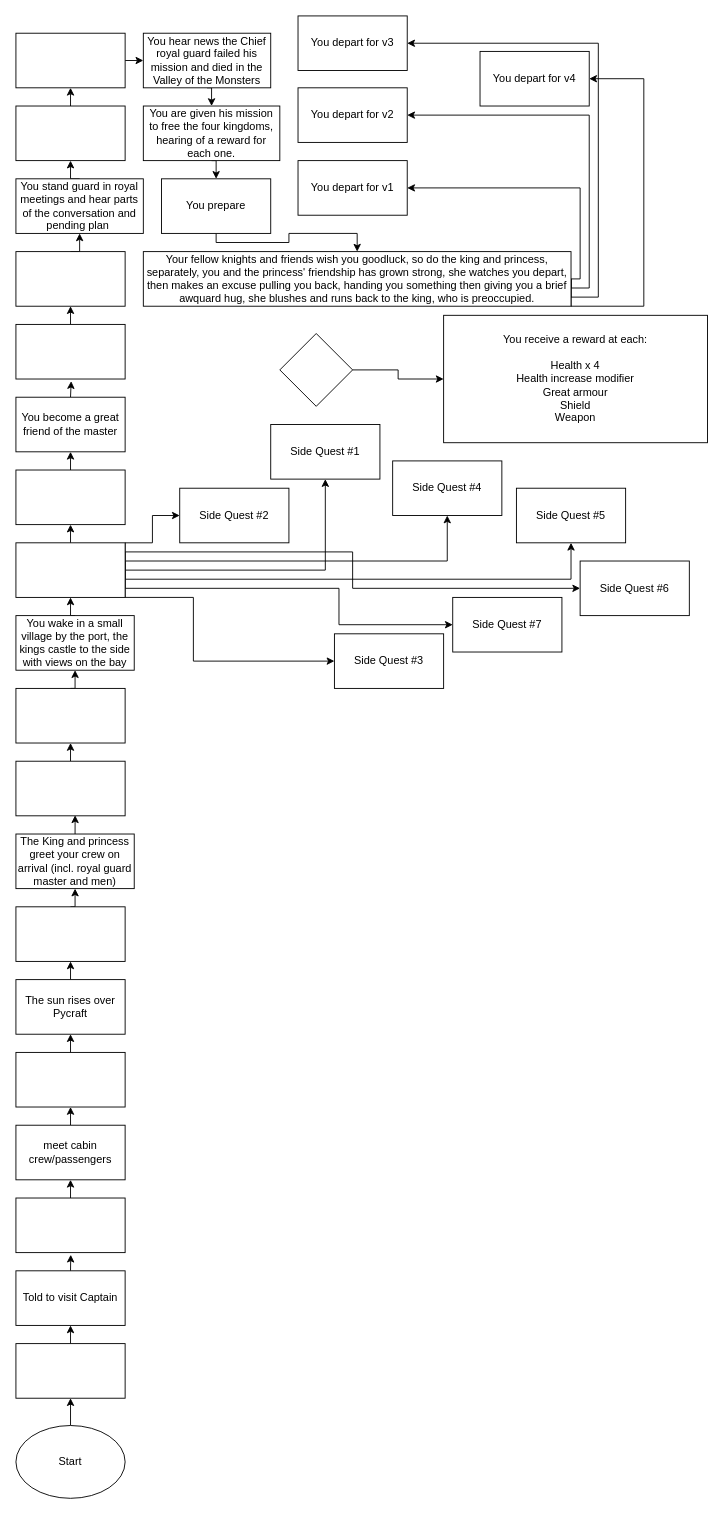
This 723x1514 diagram has some shape labels left out. Here are the shapes that lost their labels. From the top down, the centre of each, then its label:
At (70,60): "You are left to guard the castle, rising quickly to second in command".
At (70,133): "The Chief royal guard sets off on the mission".
At (70,278): "One day you are appointed as a guard to the king".
At (70,351): "You excel in your course".
At (70,497): "You hear of a defence and combat club".
At (70,569): "You explore the village and get to know the locals".
At (70,715): "evening #2".
At (70,788): "You are shown your accommodation by a kings guard".
At (70,933): "You are told you will be arriving shortly".
At (70,1079): "Evening #1".
At (70,1225): "do chores to learn game mechanics".
At (70,1370): "wake up on boat".
